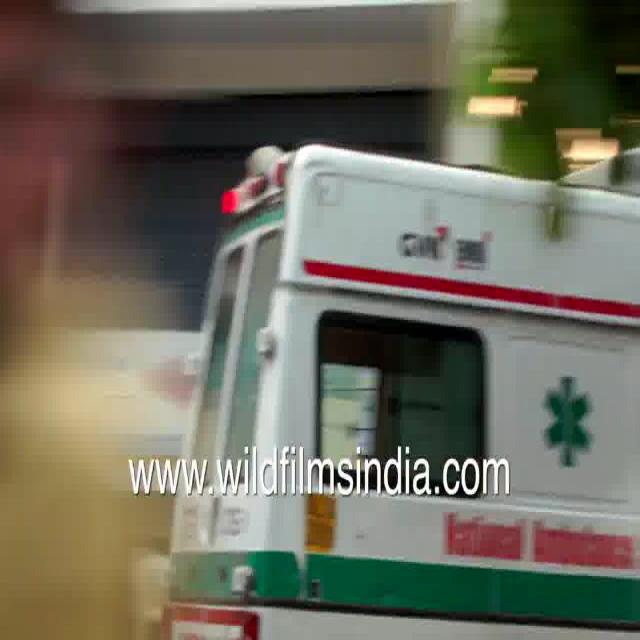ambulance: (182, 129, 640, 450), (142, 496, 639, 640)
